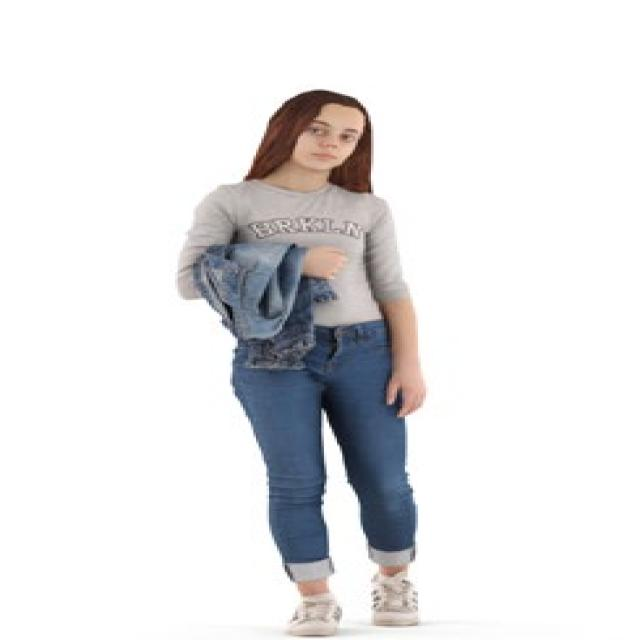standing: (166, 86, 439, 640)
